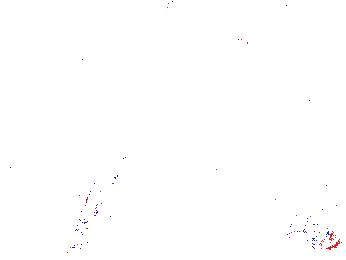X-ray fish: (295, 226, 334, 250)
glassfish: (69, 155, 129, 250), (193, 129, 263, 198)
red belly glassfish: (234, 30, 261, 49)
redtail glassfish: (163, 1, 240, 22)
